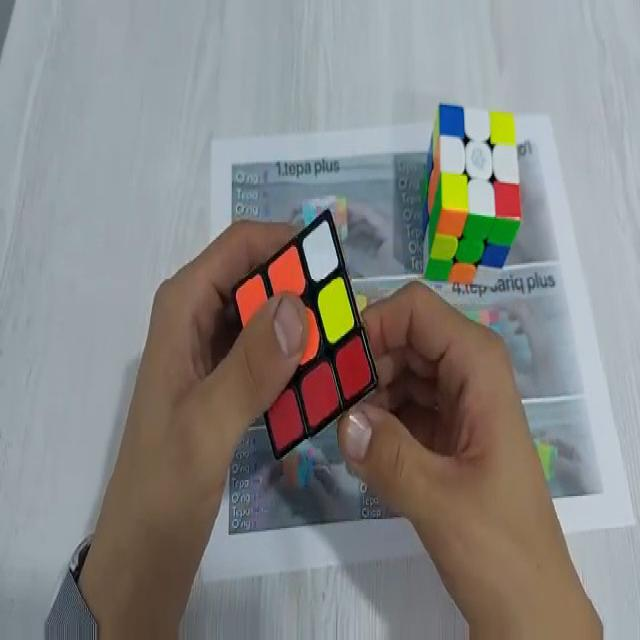Rub: (234, 205, 378, 459), (422, 102, 524, 291)
